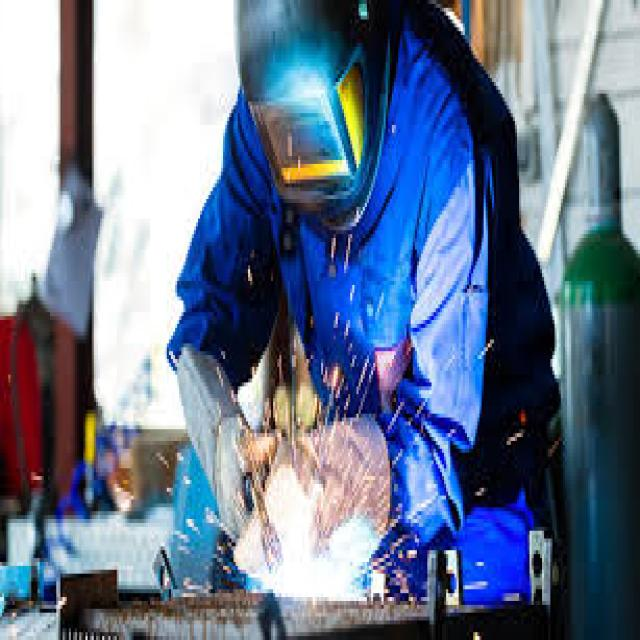welding: (272, 553, 366, 605)
